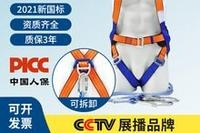safety belt: (109, 0, 171, 86), (60, 48, 106, 102)
